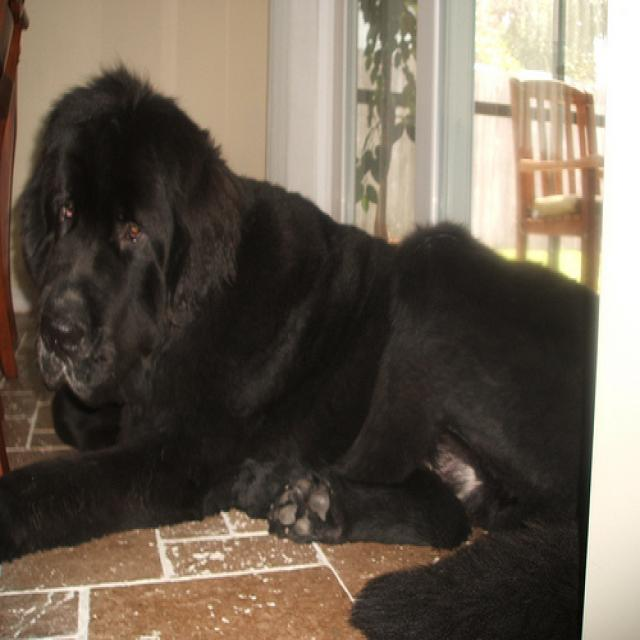dog-newfoundland: (1, 55, 611, 637)
